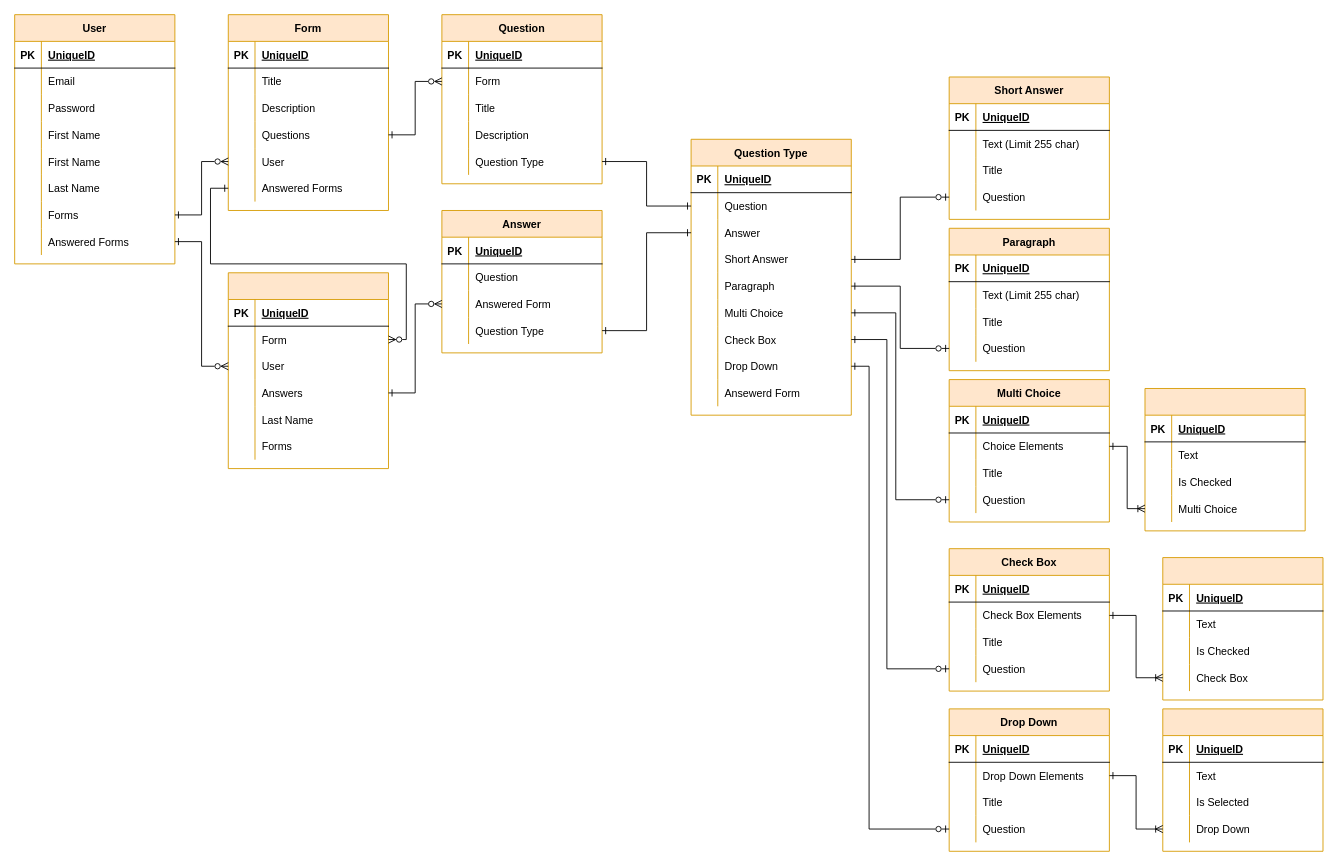
The diagram is 1338 pixels wide and 866 high, and some of its shapes have lost their labels. The shapes that lost their labels are listed below. From the top down, each one's box as (x1, y1, x2, y2) in pixels, then its label:
(227, 272, 388, 469): Answered Forum
(1144, 388, 1305, 531): Choice Element
(1162, 557, 1323, 700): Check Box Element
(1162, 708, 1323, 851): Drop Down Element
